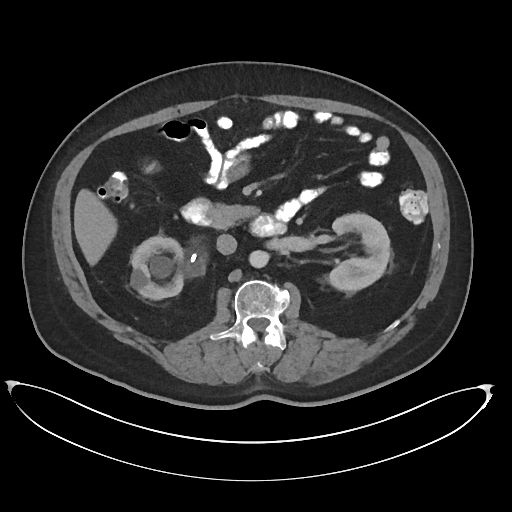Lesion: (130, 266, 149, 293)
